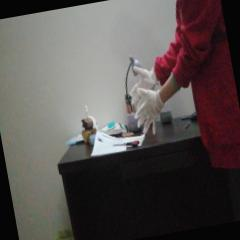gloved: (128, 86, 166, 140), (125, 65, 159, 98)
